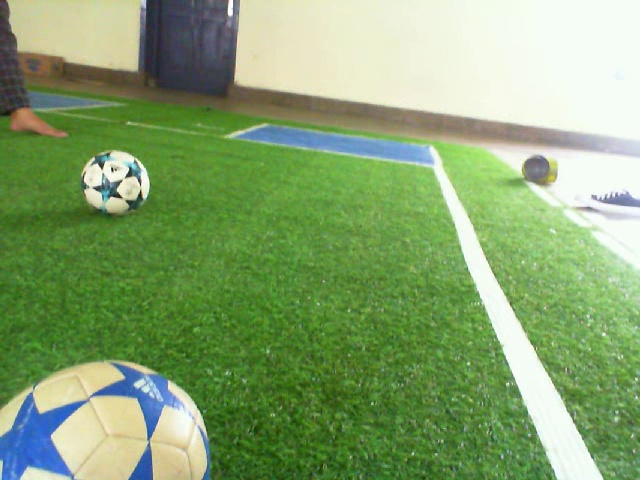ball: (1, 355, 214, 480), (78, 147, 153, 217)
